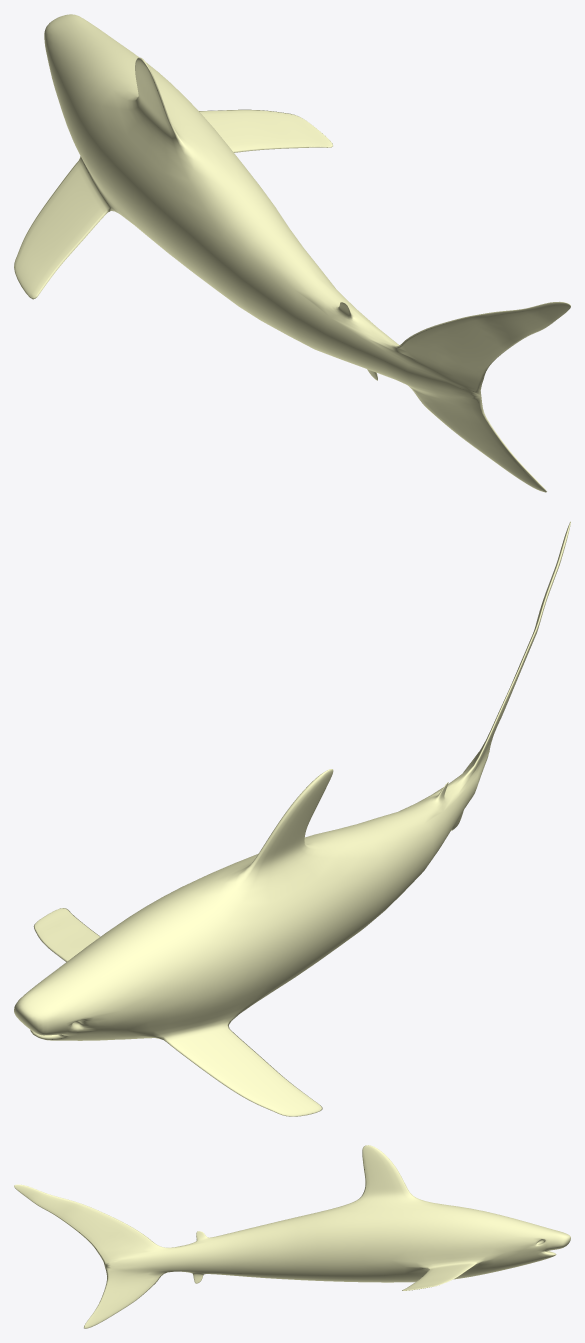
File: dolphin1_3.dae
The picture shows the model from 3 angles, top to bottom: view 1: azimuth 30°, elevation 25°; view 2: azimuth 150°, elevation 25°; view 3: azimuth 270°, elevation 25°; orthographic projection. The views are drawn at different scales.
Visible parts, largest first — view 1: dolphin1_019; view 2: dolphin1_019; view 3: dolphin1_019.
Boxes of the visible parts, x1,y1,x2,y2 form: dolphin1_019: (14,14,570,492); dolphin1_019: (14,521,570,1116); dolphin1_019: (14,1145,570,1328).
Bounding box in the file's own units: 0.045 × 0.146 × 0.0426.
